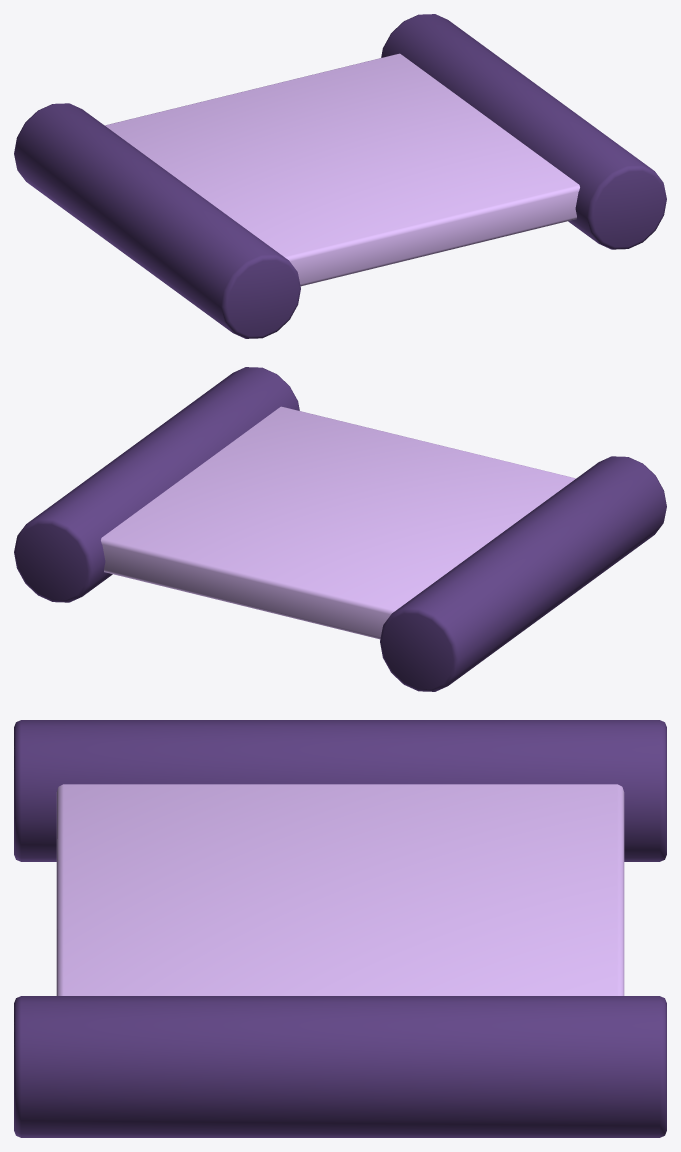
The model's file is SM_Platform_Phase.fbx.
3 renders of one model, top to bottom at view 1: azimuth 30°, elevation 25°; view 2: azimuth 150°, elevation 25°; view 3: azimuth 270°, elevation 25°, orthographic. The views are drawn at different scales.
Visible parts, largest first — view 1: SM_Platform_Phase; view 2: SM_Platform_Phase; view 3: SM_Platform_Phase.
Boxes of the visible parts, x1,y1,x2,y2 form: SM_Platform_Phase: (14, 14, 666, 338); SM_Platform_Phase: (14, 367, 666, 691); SM_Platform_Phase: (14, 720, 666, 1137).
Bounding box in the file's own units: 112 × 92 × 20.
